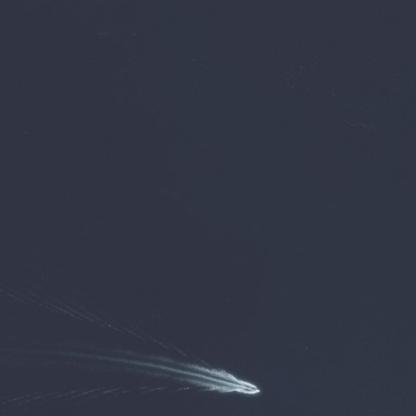ship: (236, 379, 262, 395)
